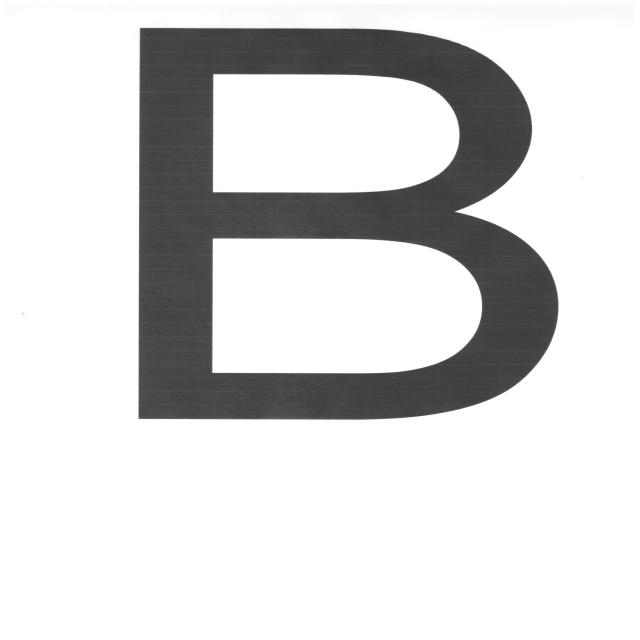b: (99, 5, 600, 466)
